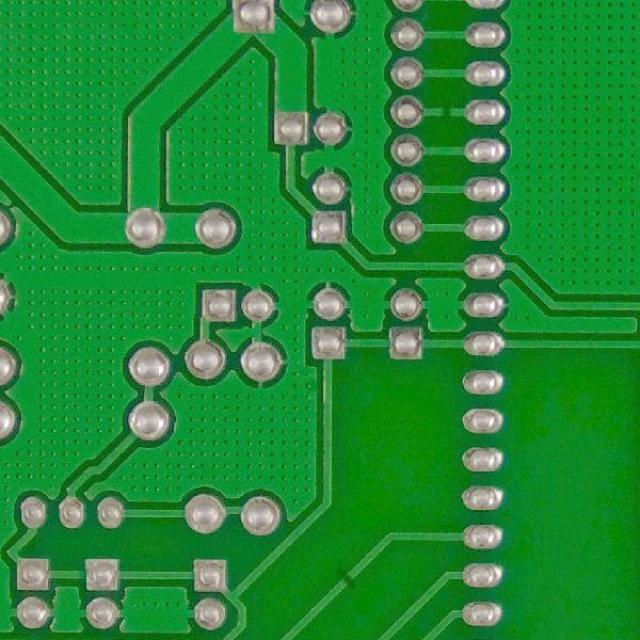Open_Circuit: (336, 563, 364, 594), (432, 101, 460, 122)
